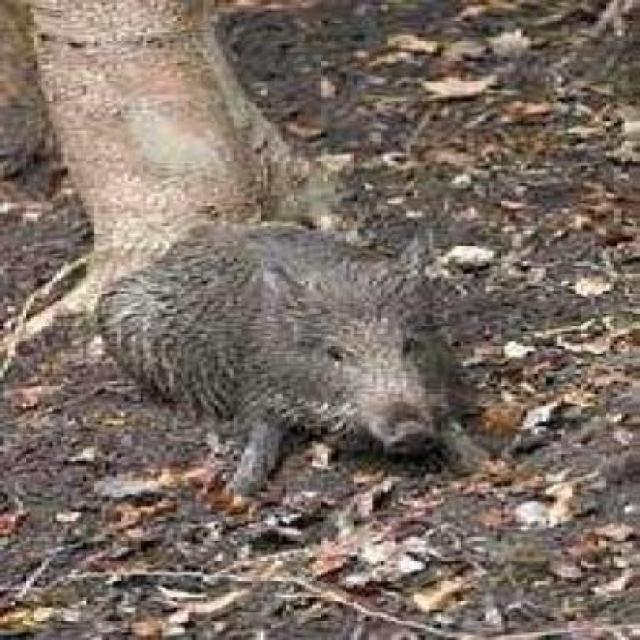pig: (75, 165, 461, 513)
